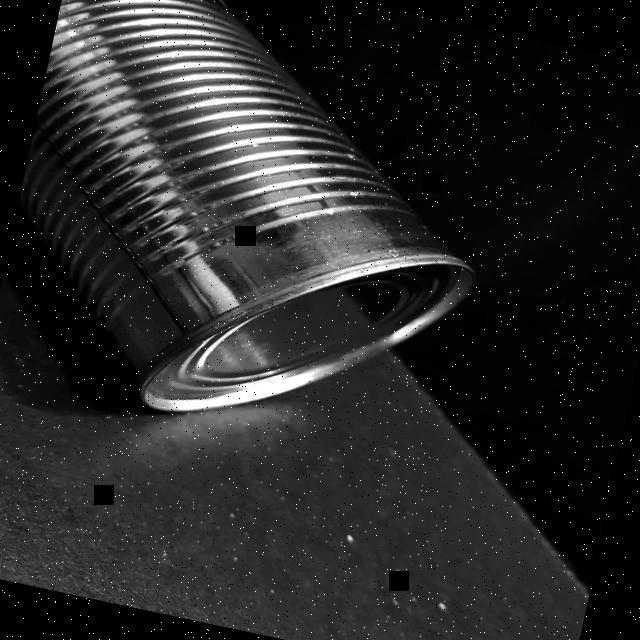can: (0, 0, 531, 472)
